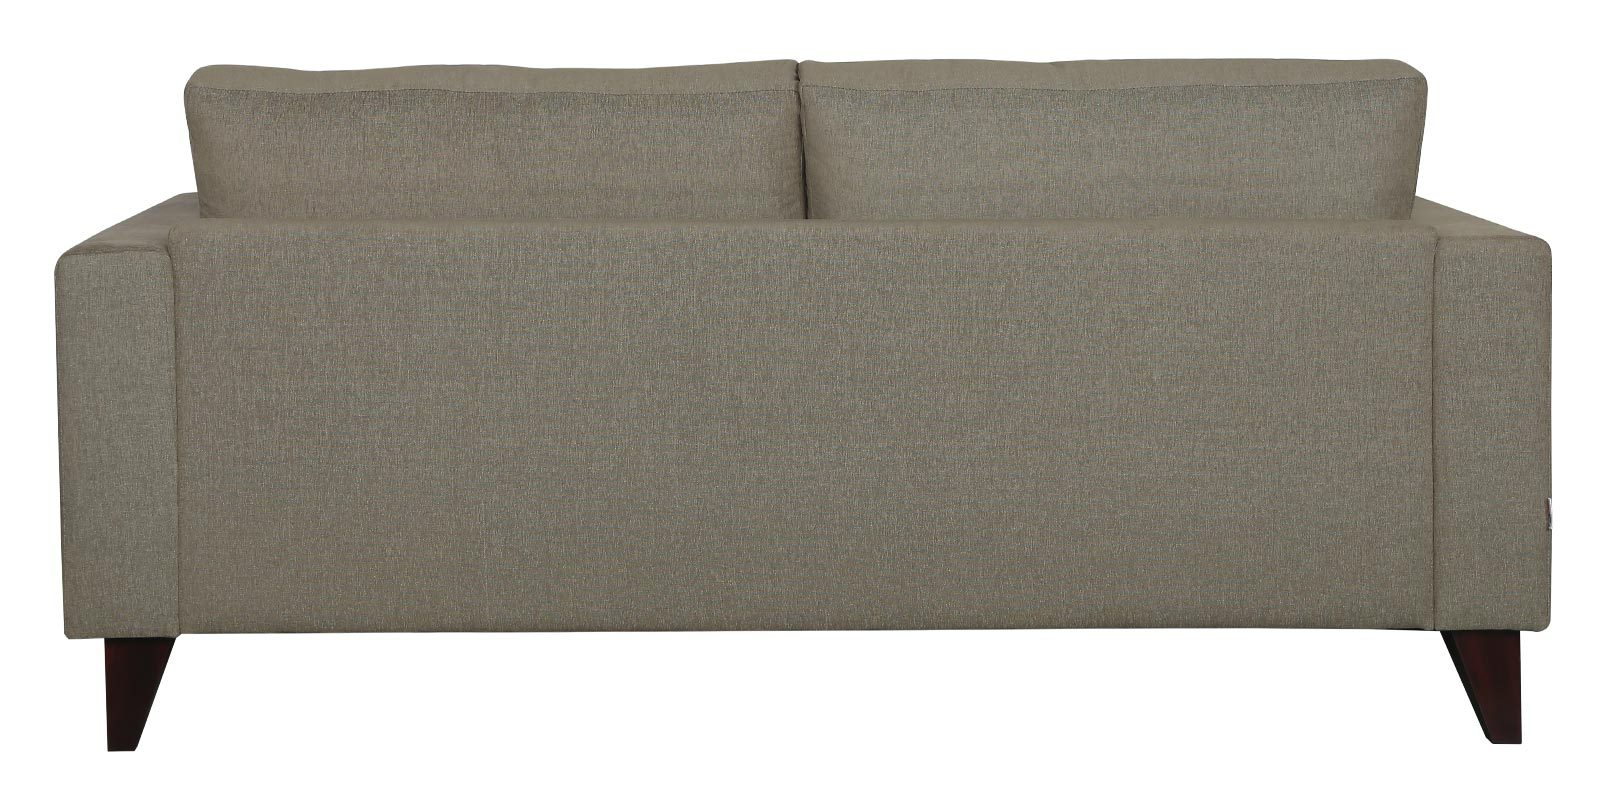Alfredo Three Seater Sofa in Sandy Brown Colour by CasaCraft: (50, 49, 1569, 771)
